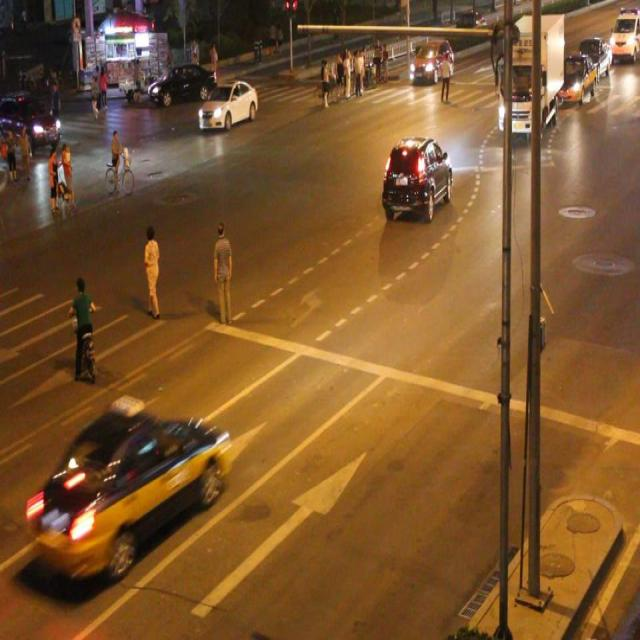bus: (495, 11, 564, 136)
car: (22, 394, 228, 578), (384, 136, 452, 218), (199, 80, 258, 132), (148, 64, 215, 102)
